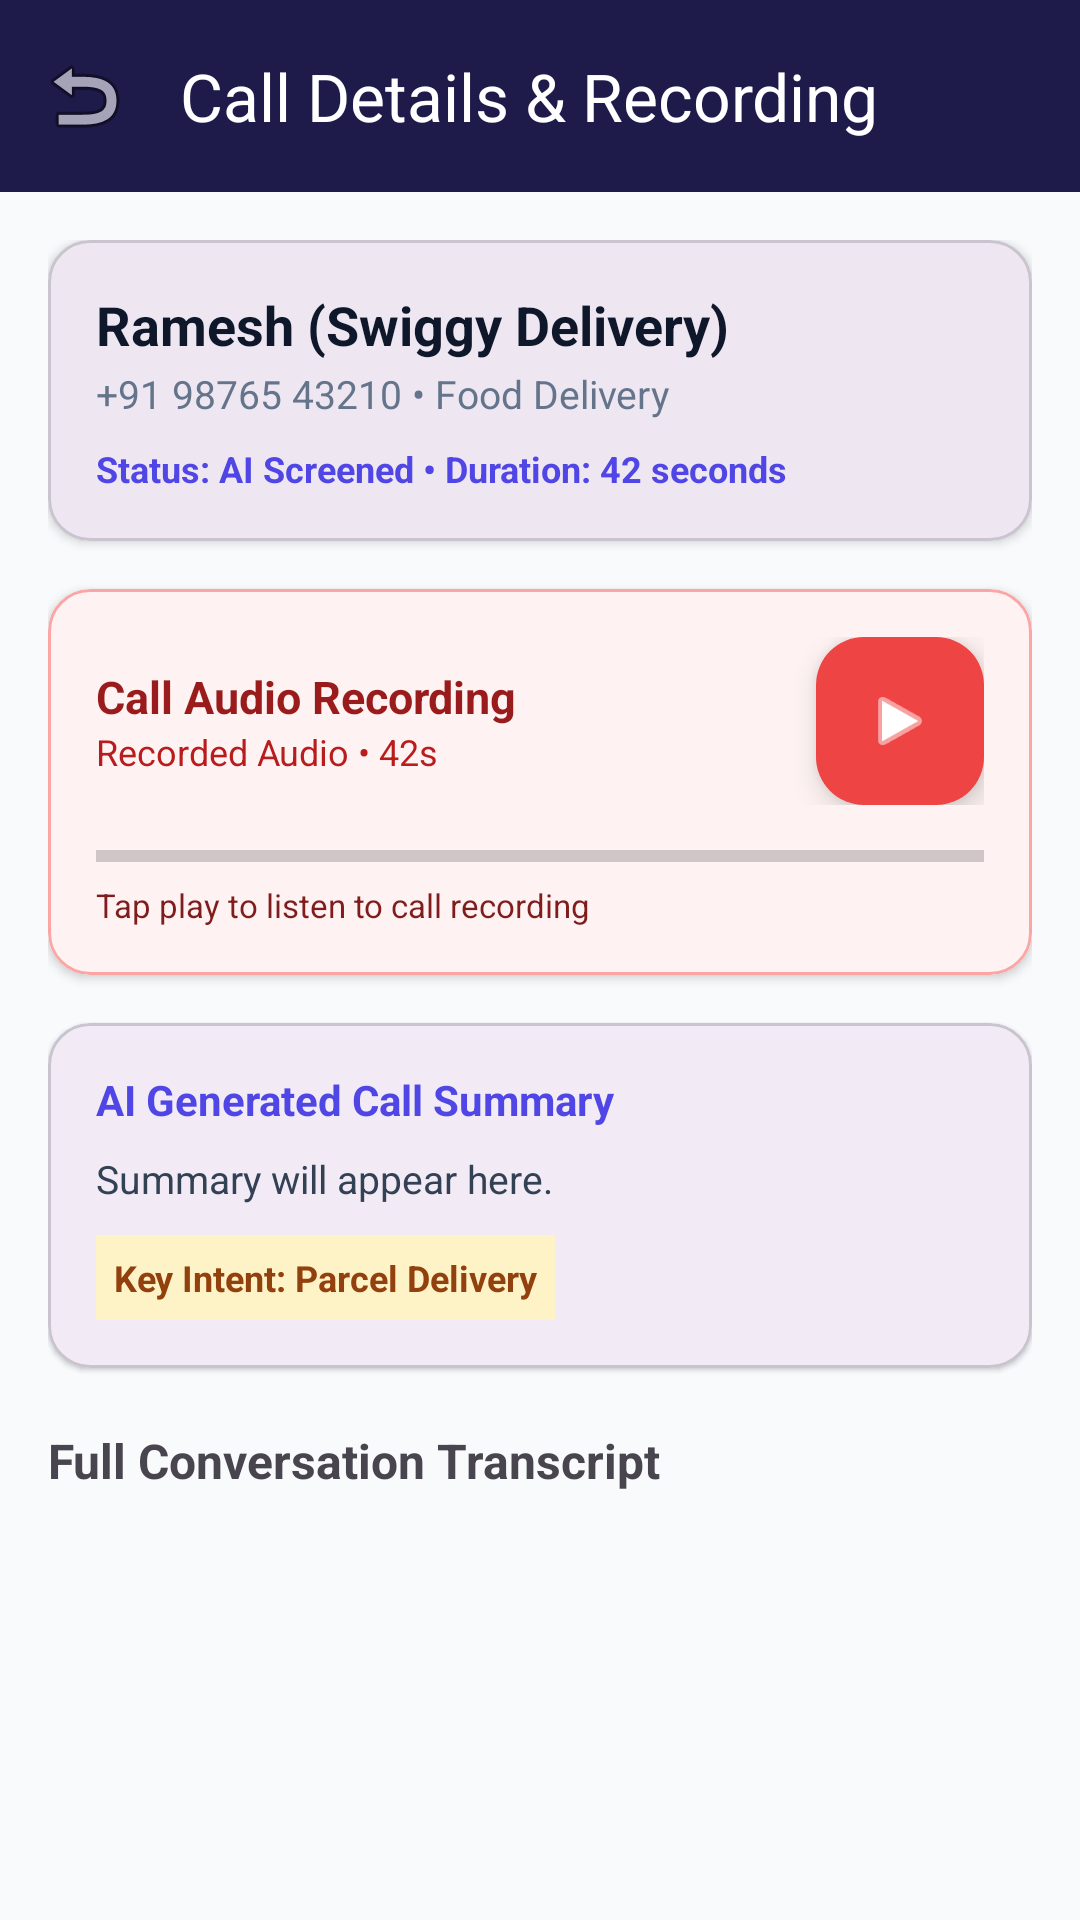

Locate icon controls on the screen. Image size 1080w x 1920h, boxes as box(x1, y1, x2, y2).
play: box(816, 637, 984, 805)
